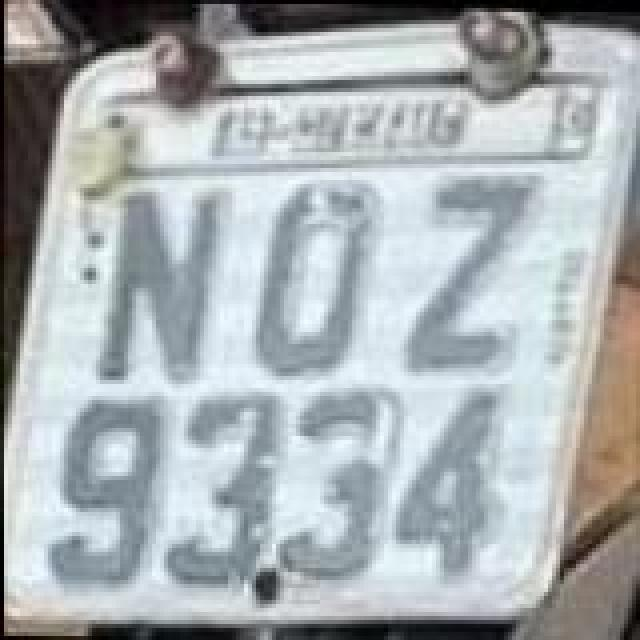3: (280, 380, 408, 588), (162, 384, 286, 592)
4: (392, 382, 504, 578)
9: (40, 396, 164, 592)
N: (98, 180, 226, 388)
O: (254, 172, 390, 372)
Z: (396, 166, 536, 378)
